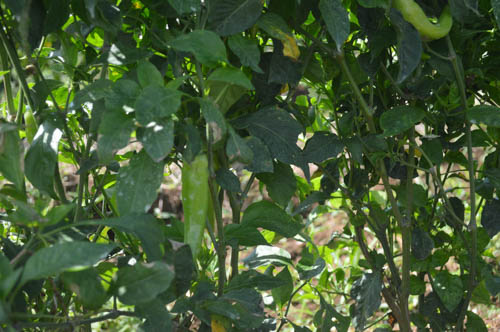ChiliPepper: (179, 156, 213, 261), (396, 2, 460, 46)
